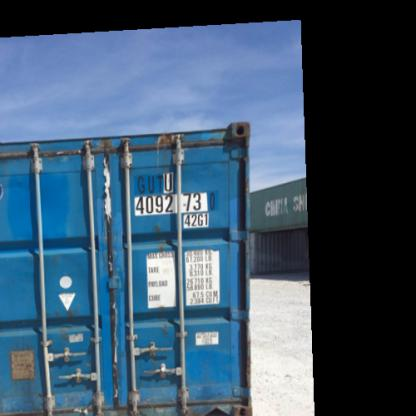Damage: (127, 389, 194, 413), (43, 384, 95, 410), (98, 150, 112, 240), (153, 134, 186, 169), (103, 298, 121, 361), (30, 143, 90, 155)
